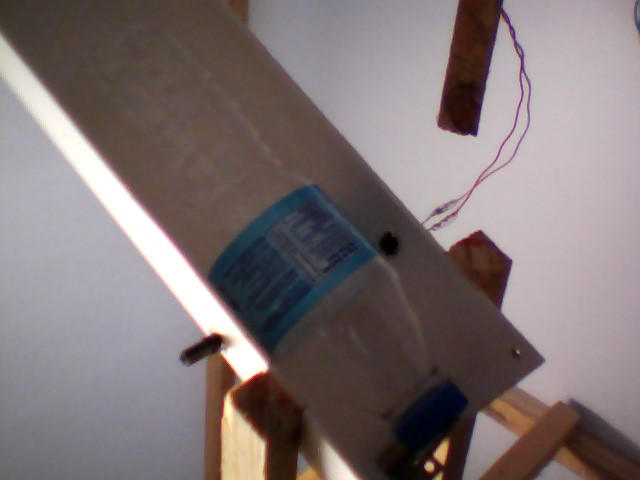plastico: (56, 16, 472, 462)
